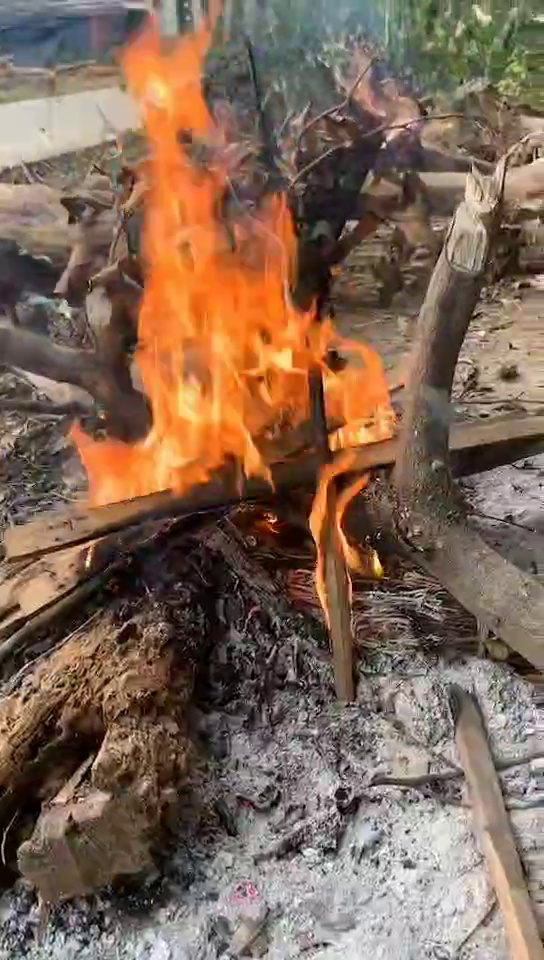fire: (115, 135, 377, 485)
